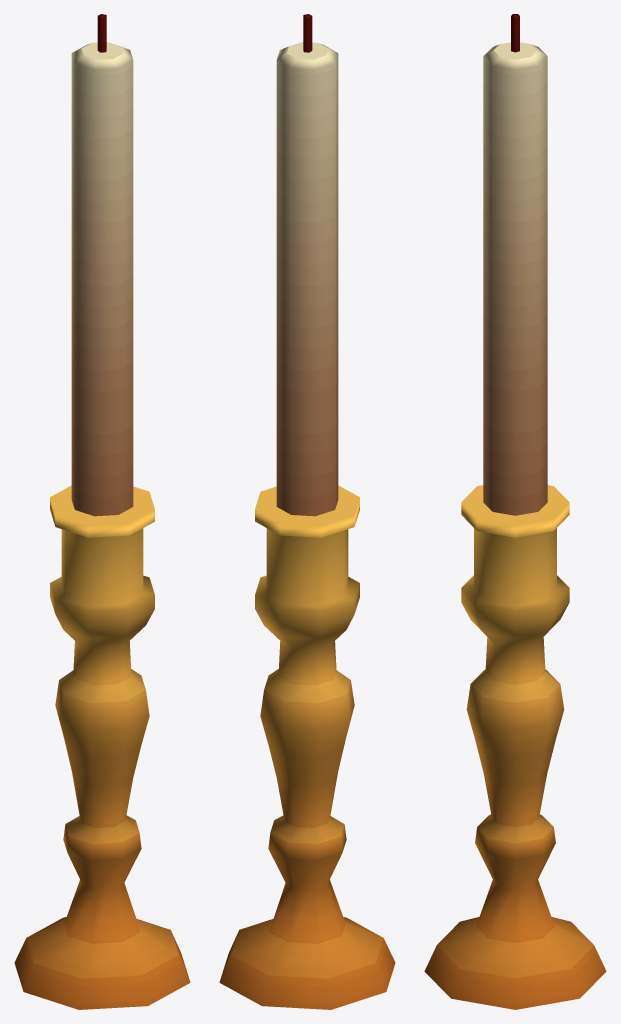
The model's file is CandleTall.fbx.
The picture shows the model from 3 angles, left to right: view 1: azimuth 30°, elevation 25°; view 2: azimuth 150°, elevation 25°; view 3: azimuth 270°, elevation 25°; orthographic projection.
Visible parts, largest first — view 1: VR_Candle_Tall_adjusted; view 2: VR_Candle_Tall_adjusted; view 3: VR_Candle_Tall_adjusted.
Boxes of the visible parts, x1,y1,x2,y2 form: VR_Candle_Tall_adjusted: [14, 14, 190, 1009]; VR_Candle_Tall_adjusted: [219, 14, 395, 1009]; VR_Candle_Tall_adjusted: [424, 14, 606, 1009].
Size of the model in its own units: 5.65 by 32.74 by 5.65.
